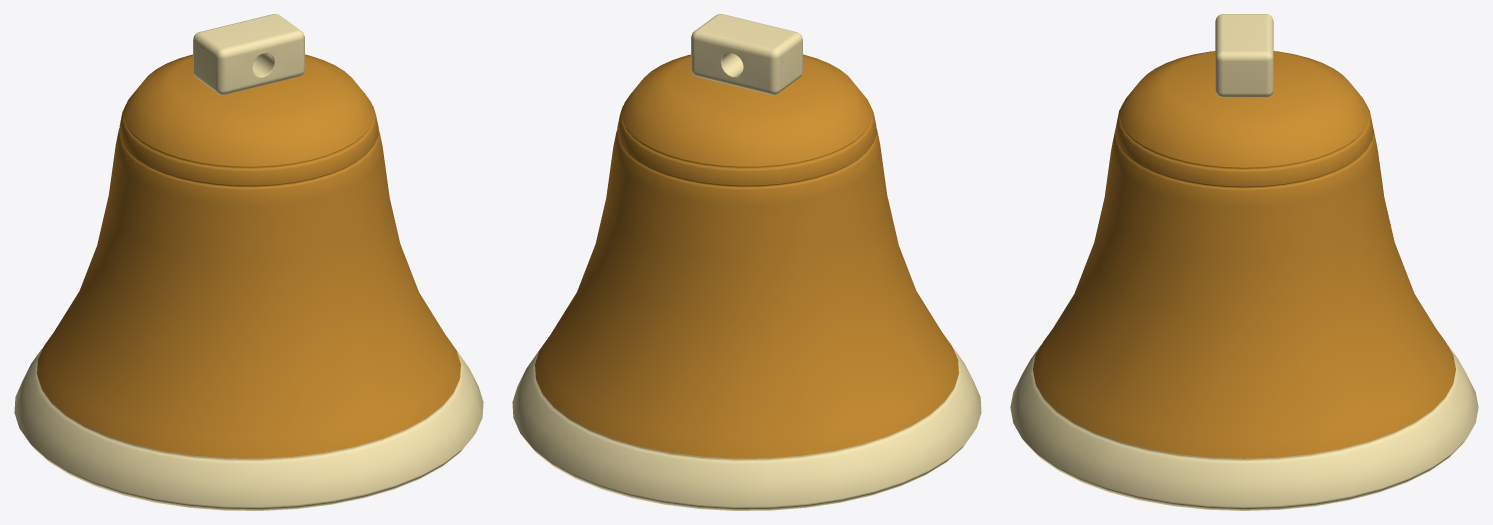
3 renders of one model, left to right at view 1: azimuth 30°, elevation 25°; view 2: azimuth 150°, elevation 25°; view 3: azimuth 270°, elevation 25°, orthographic.
Visible parts, largest first — view 1: BellShell, Headstock; view 2: BellShell, Headstock; view 3: BellShell, Headstock.
Boxes of the visible parts, x1,y1,x2,y2 form: BellShell: (14, 54, 483, 510); Headstock: (193, 14, 304, 94); BellShell: (512, 54, 981, 510); Headstock: (691, 14, 802, 94); BellShell: (1010, 51, 1478, 510); Headstock: (1215, 14, 1273, 97).
Bounding box in the file's own units: 0.06 × 0.059 × 0.06.
